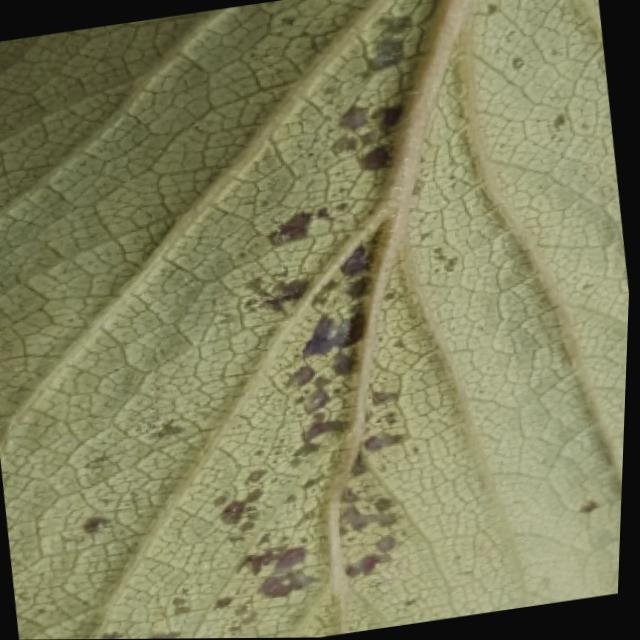Angular Leafspot: (68, 0, 631, 639)
